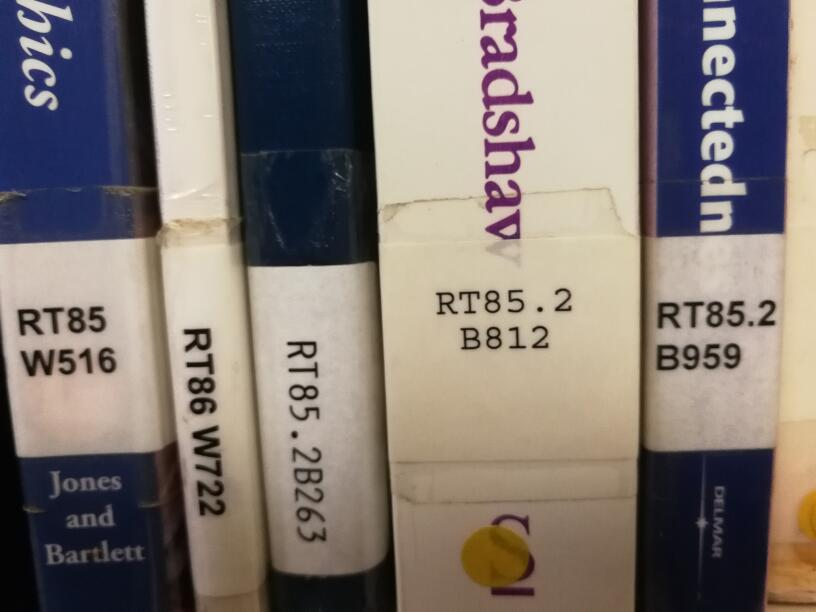booklabel: (282, 338, 332, 544), (655, 296, 778, 373), (435, 285, 574, 353), (179, 326, 227, 519), (15, 303, 119, 379)
